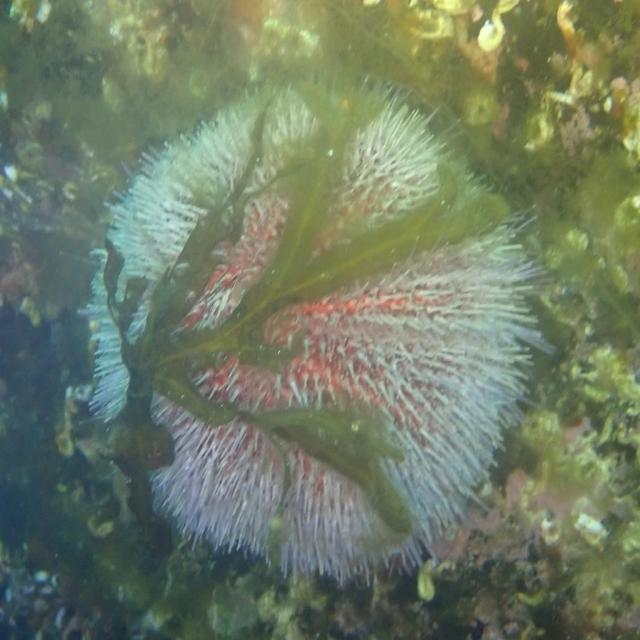Deniz Kestanesi: (76, 71, 554, 588)
